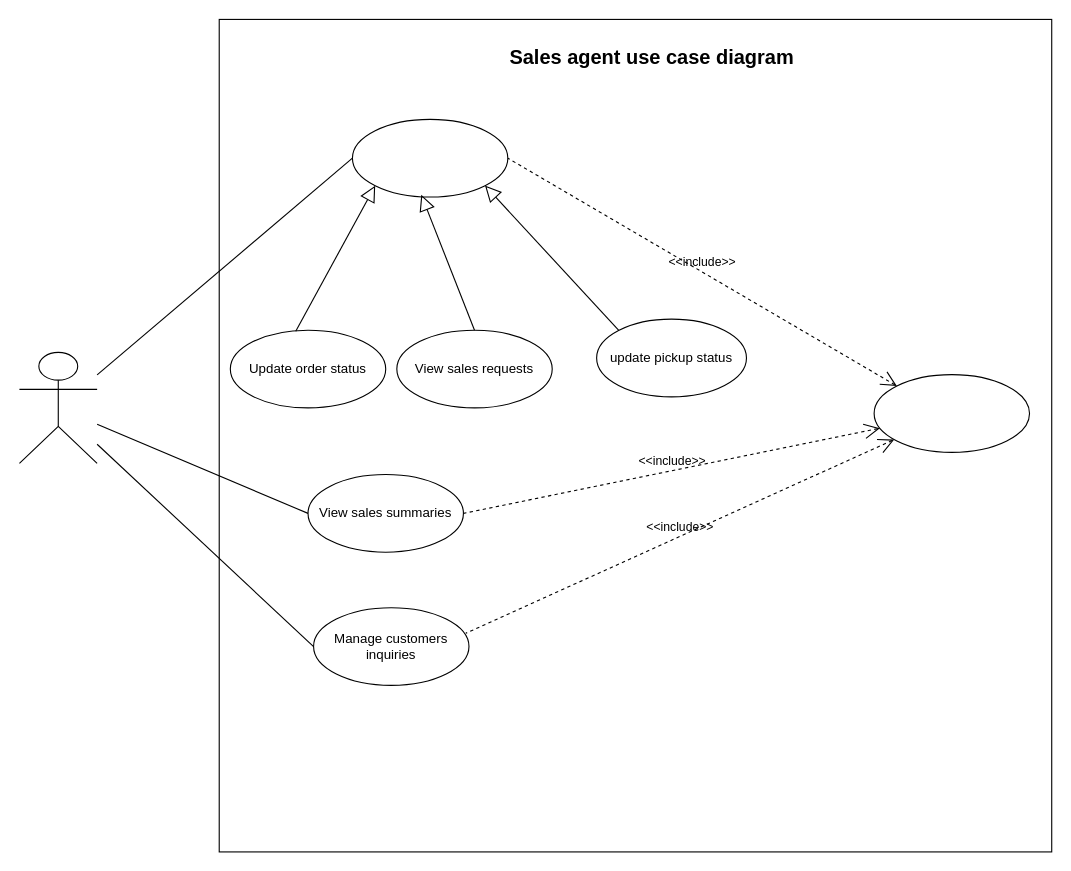
Image size: 1071x871. Some labels were removed from this diagram. Each missing label, with the box of its shape:
Authenticaiton: (873, 374, 1030, 452)
Process sales orders: (351, 118, 508, 197)
Sales agent: (18, 351, 97, 463)
